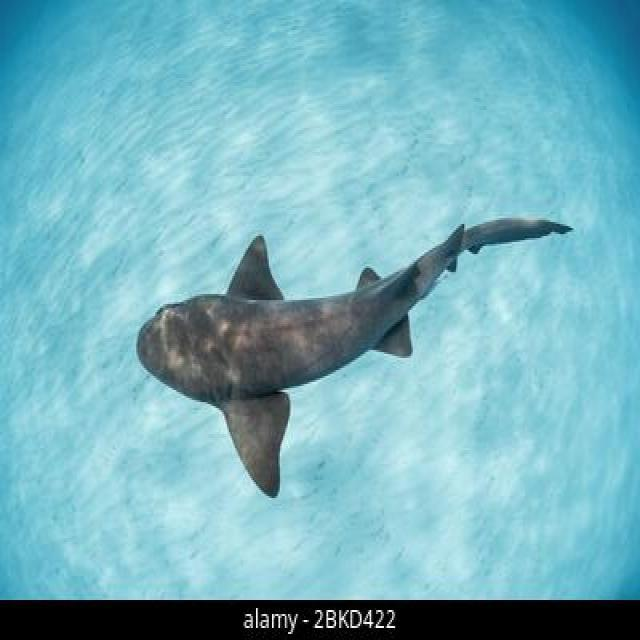Shark: (105, 164, 588, 510)
